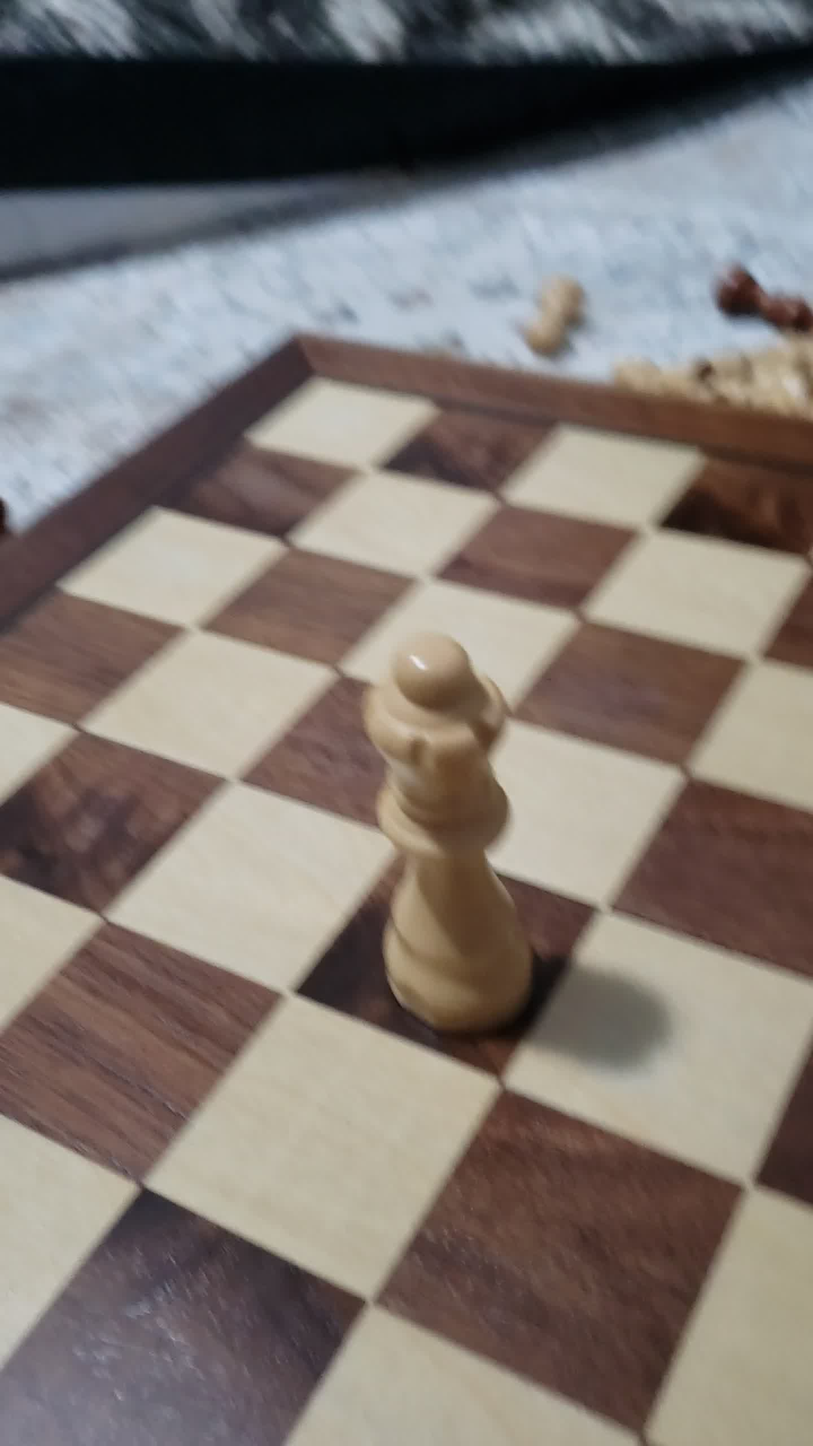white-queen: (339, 622, 566, 1050)
